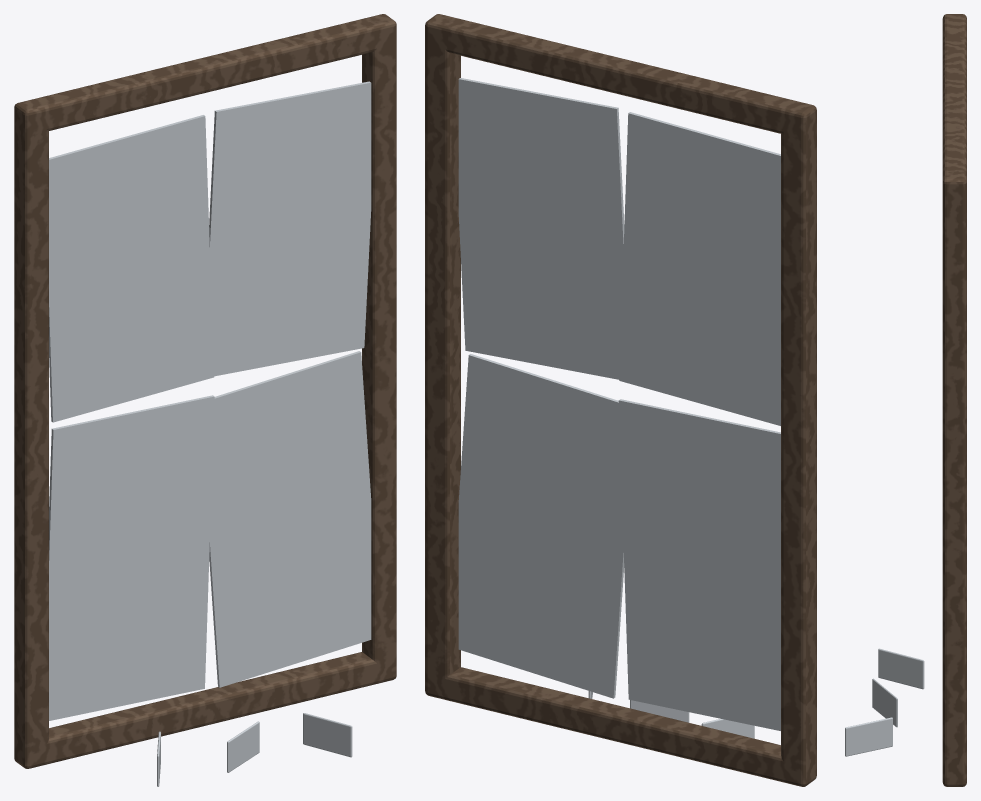
File: PRP_Mirror_Broken.fbx
3 views of the same model, side by side, from view 1: azimuth 30°, elevation 25°; view 2: azimuth 150°, elevation 25°; view 3: azimuth 270°, elevation 25° (orthographic). The views are drawn at different scales.
Parts seen in each view (by area): view 1: Mirror_Frame, Mirror_Crack_03, Mirror_Crack_04, Mirror_Crack_02, Mirror_Crack_01, Mirror_Shard_03, Mirror_Shard_02; view 2: Mirror_Frame, Mirror_Crack_04, Mirror_Crack_03, Mirror_Crack_02, Mirror_Crack_01; view 3: Mirror_Frame, Mirror_Shard_03, Mirror_Shard_01, Mirror_Shard_02.
Part boxes in pixels (x1,y1,x2,y2): Mirror_Frame: (14, 14, 396, 768); Mirror_Crack_03: (49, 395, 214, 720); Mirror_Crack_04: (200, 351, 371, 687); Mirror_Crack_02: (203, 81, 371, 378); Mirror_Crack_01: (49, 115, 214, 422); Mirror_Shard_03: (303, 713, 352, 757); Mirror_Shard_02: (227, 721, 259, 772); Mirror_Frame: (425, 14, 816, 786); Mirror_Crack_04: (458, 354, 633, 698); Mirror_Crack_03: (618, 399, 780, 730); Mirror_Crack_02: (458, 78, 630, 381); Mirror_Crack_01: (619, 112, 780, 425); Mirror_Frame: (942, 14, 966, 786); Mirror_Shard_03: (845, 717, 892, 756); Mirror_Shard_01: (878, 648, 924, 689); Mirror_Shard_02: (872, 678, 897, 727).
Size of the model in its own units: 74 by 128 by 22.72.
